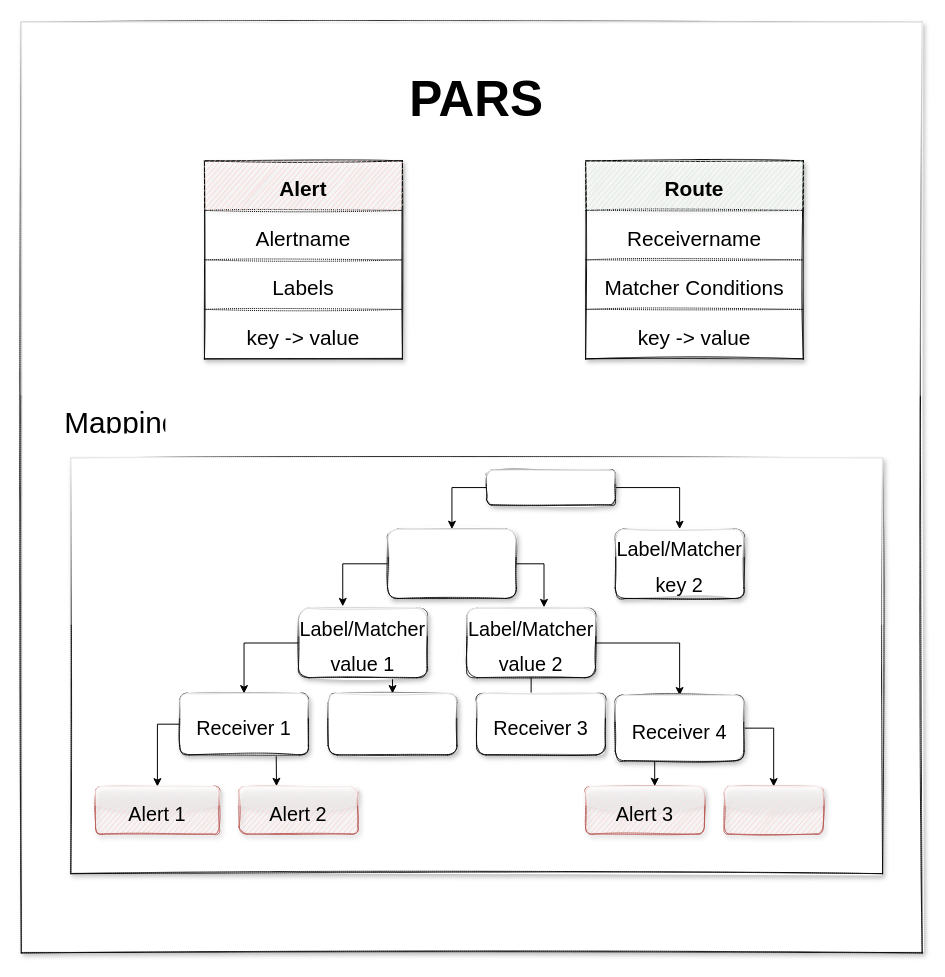
This 945x977 diagram has some shape labels left out. The centre of each missing label's shape, as x and y in pixels:
"Alert 4" goes at pixel 774 811.
"Label/Matcher key 1" goes at pixel 452 564.
"Receiver 2" goes at pixel 393 725.
"Root" goes at pixel 551 488.
